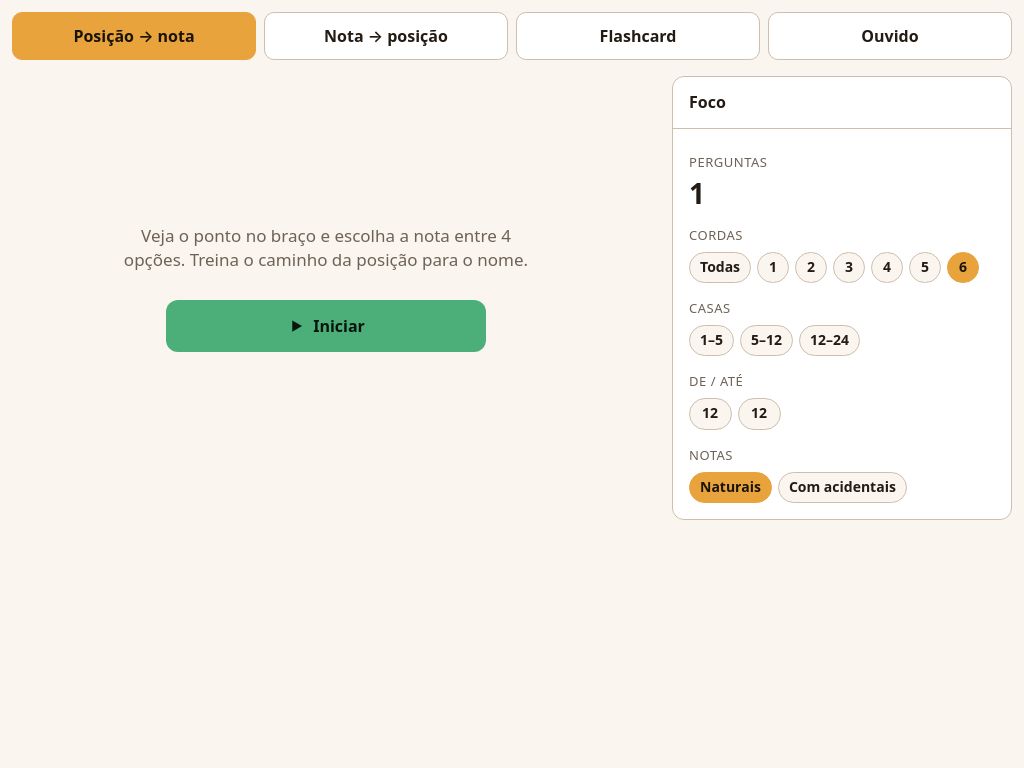
Test: Study: answering › multiple choice: a wrong answer shows the right note and a Próxima button
Click the button "Iniciar" at x=326, y=326, box 166,300 -> 486,352
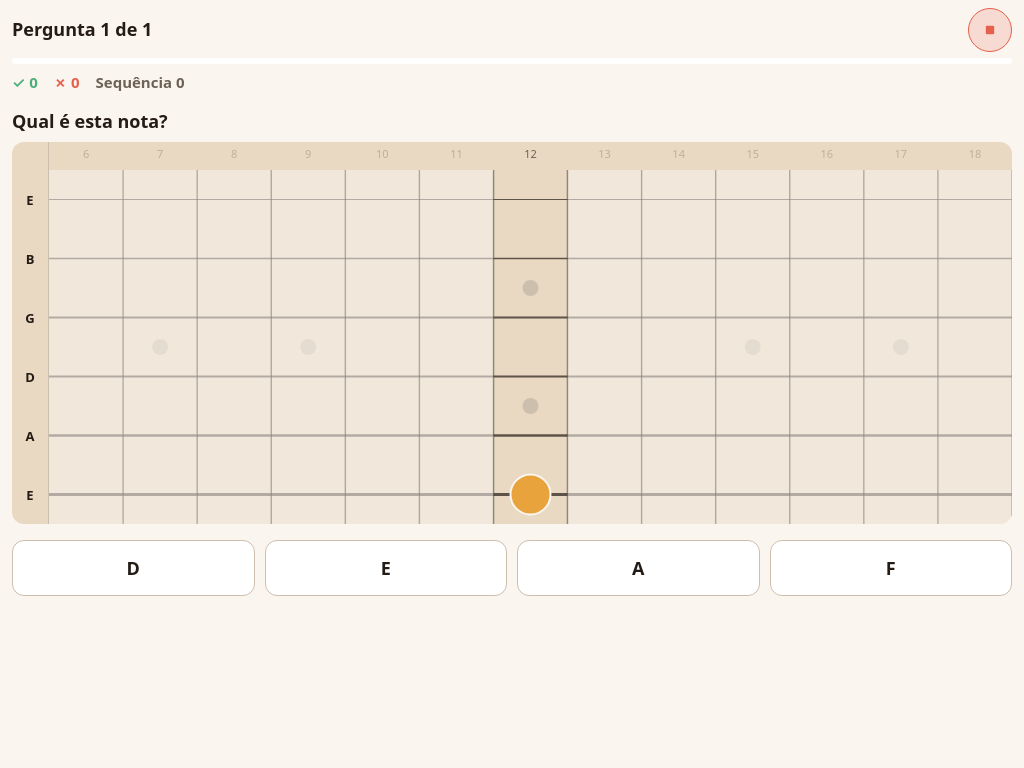
Click the button "D" at x=133, y=568, box 12,540 -> 254,596
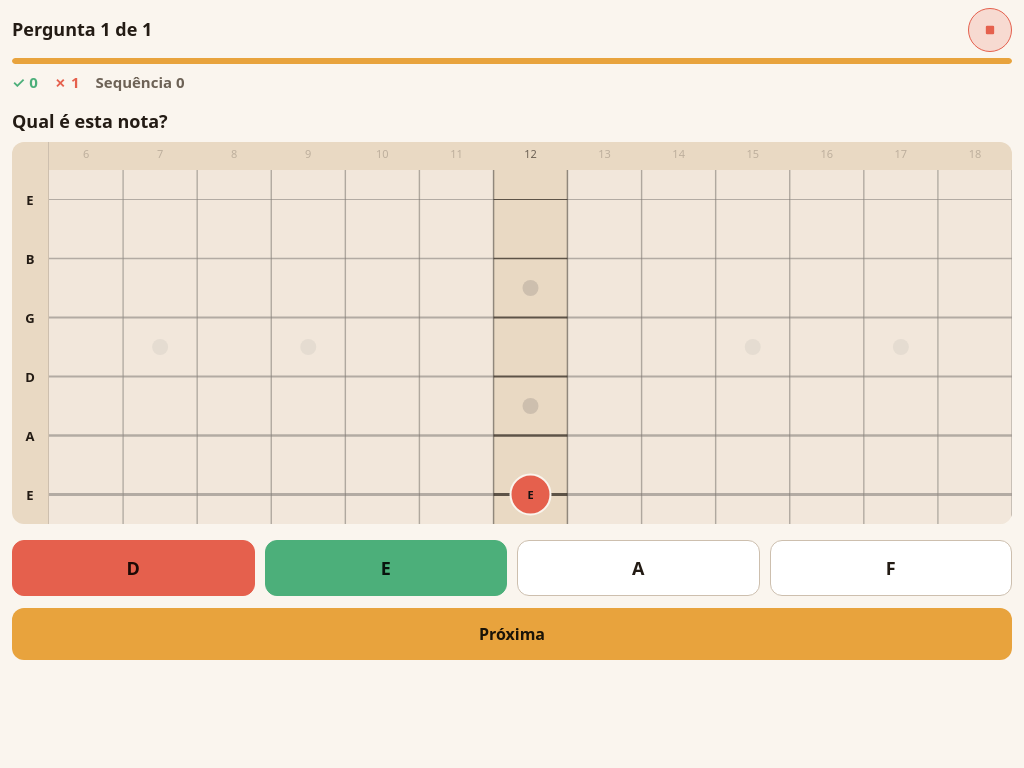
Expected: the button "Próxima" is shown, 12,608 -> 1012,660
